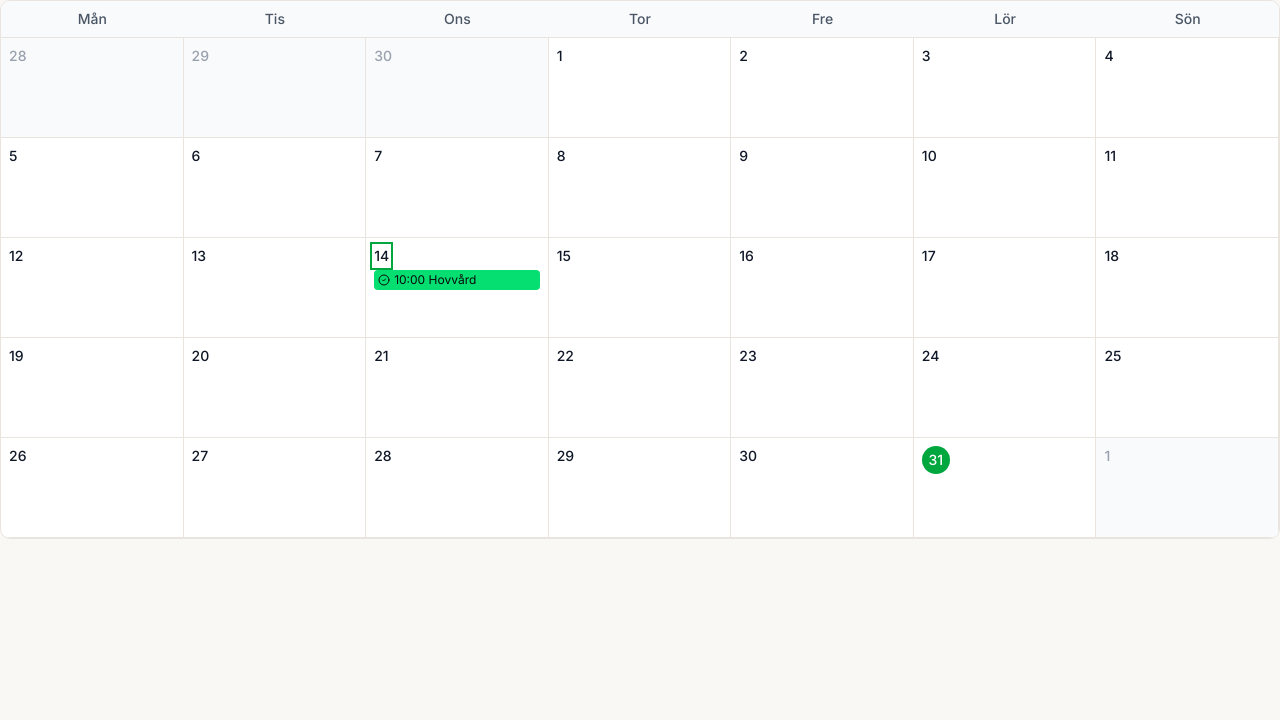
MonthCalendar -- popupen hålls inom gridet vertikalt › åtgärdsknapparna finns kvar i den uppvända popupen och går att använda
Press Enter
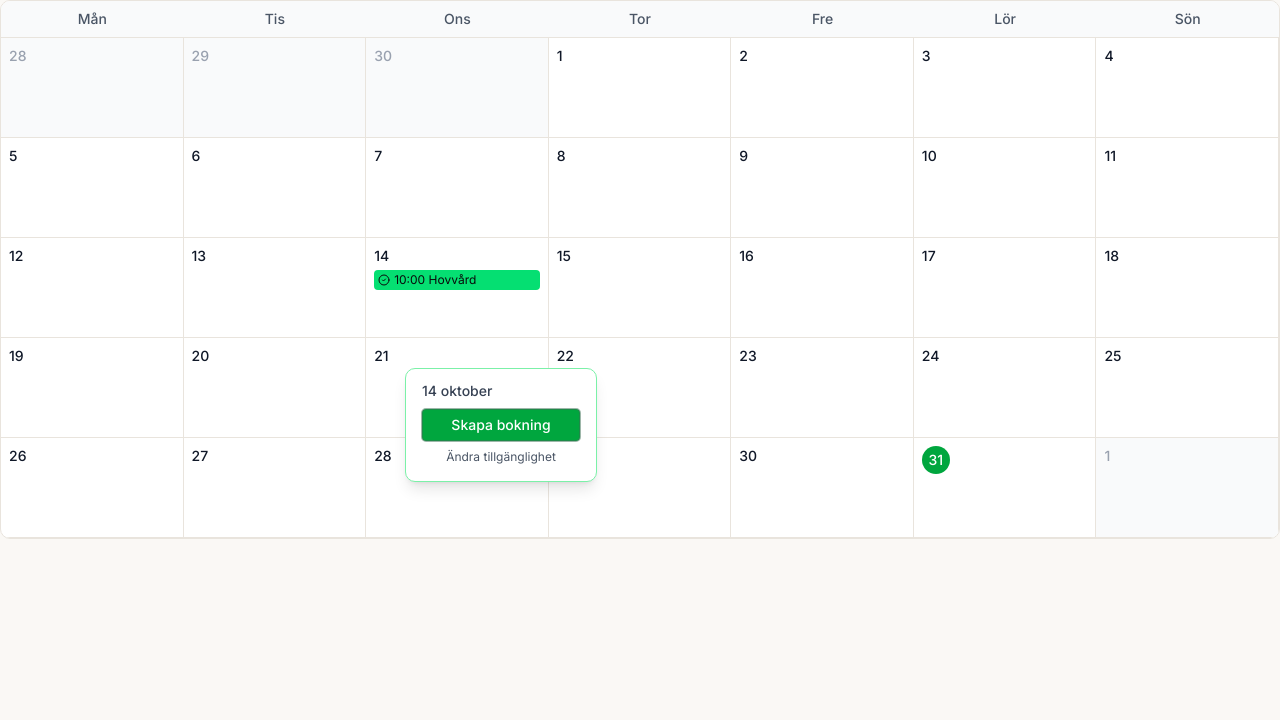
Result: the button "Skapa bokning" is shown at x1=422 y1=409 x2=580 y2=441
Result: the button "Ändra tillgänglighet" is shown
Click the button "Ändra tillgänglighet": (501, 457) x1=422 y1=445 x2=580 y2=469
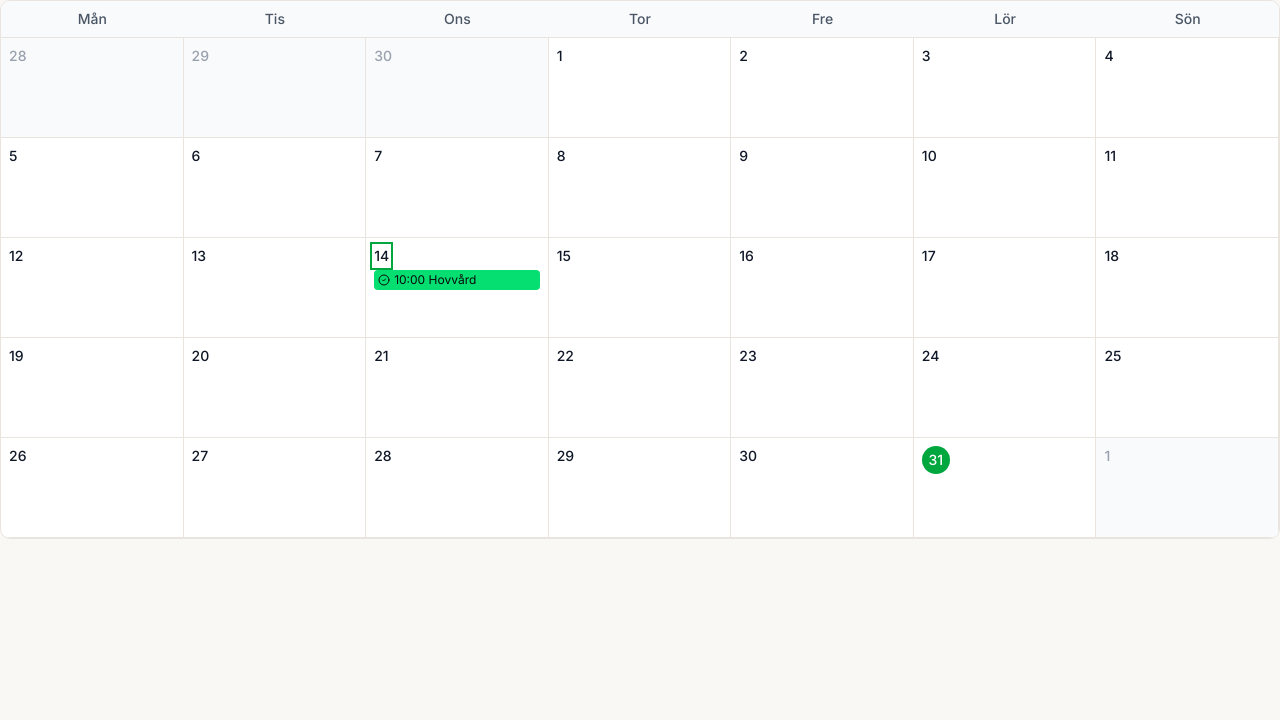
Result: the dialog is gone
